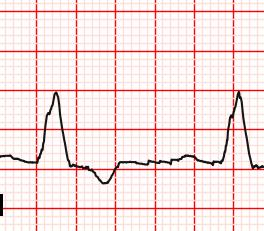T inversion: (83, 155, 129, 194)
